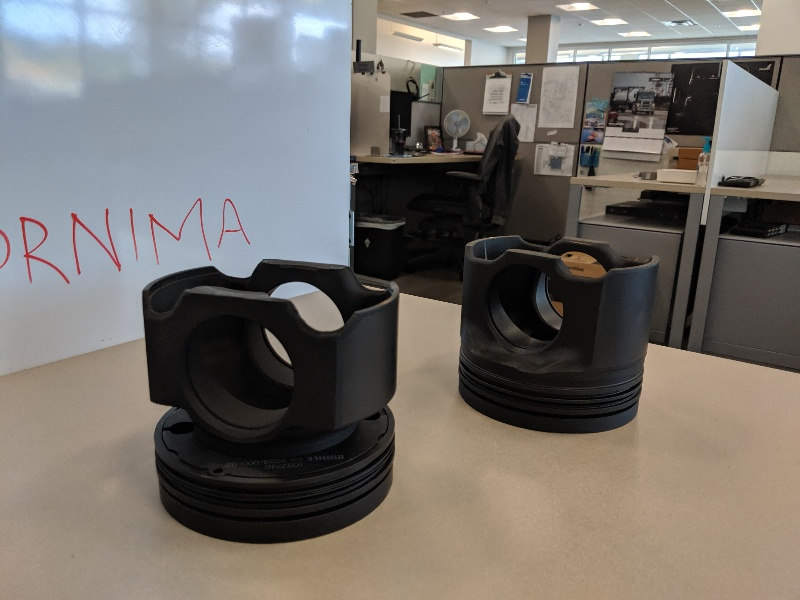piston: (129, 246, 412, 549), (453, 225, 661, 438)
